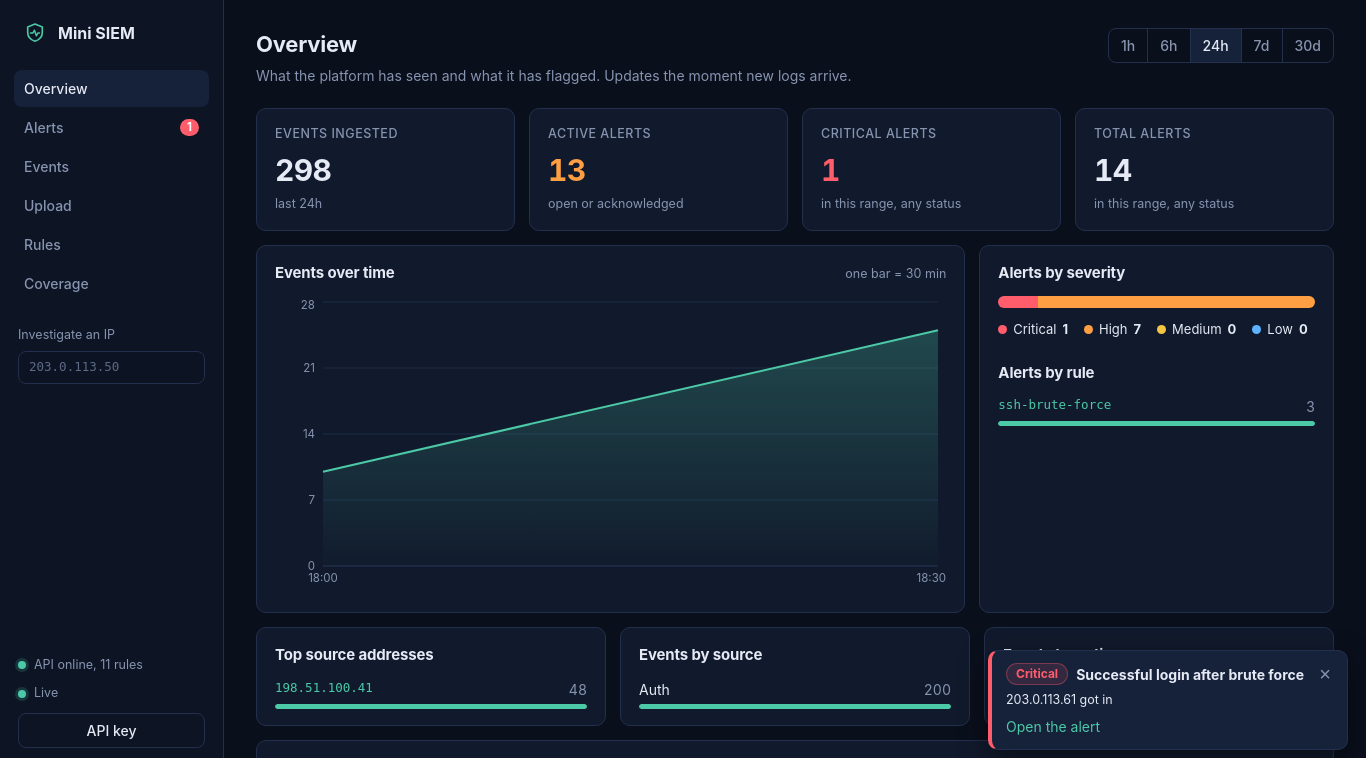
Test: Live feed › lets the analyst dismiss a toast
This screenshot has width=1366, height=758.
Expected: the text "Live" is shown, left=18, top=685, right=58, bottom=700
Click the button named "Dismiss Successful login after brute force" at (1325, 674), box left=1317, top=664, right=1333, bottom=684
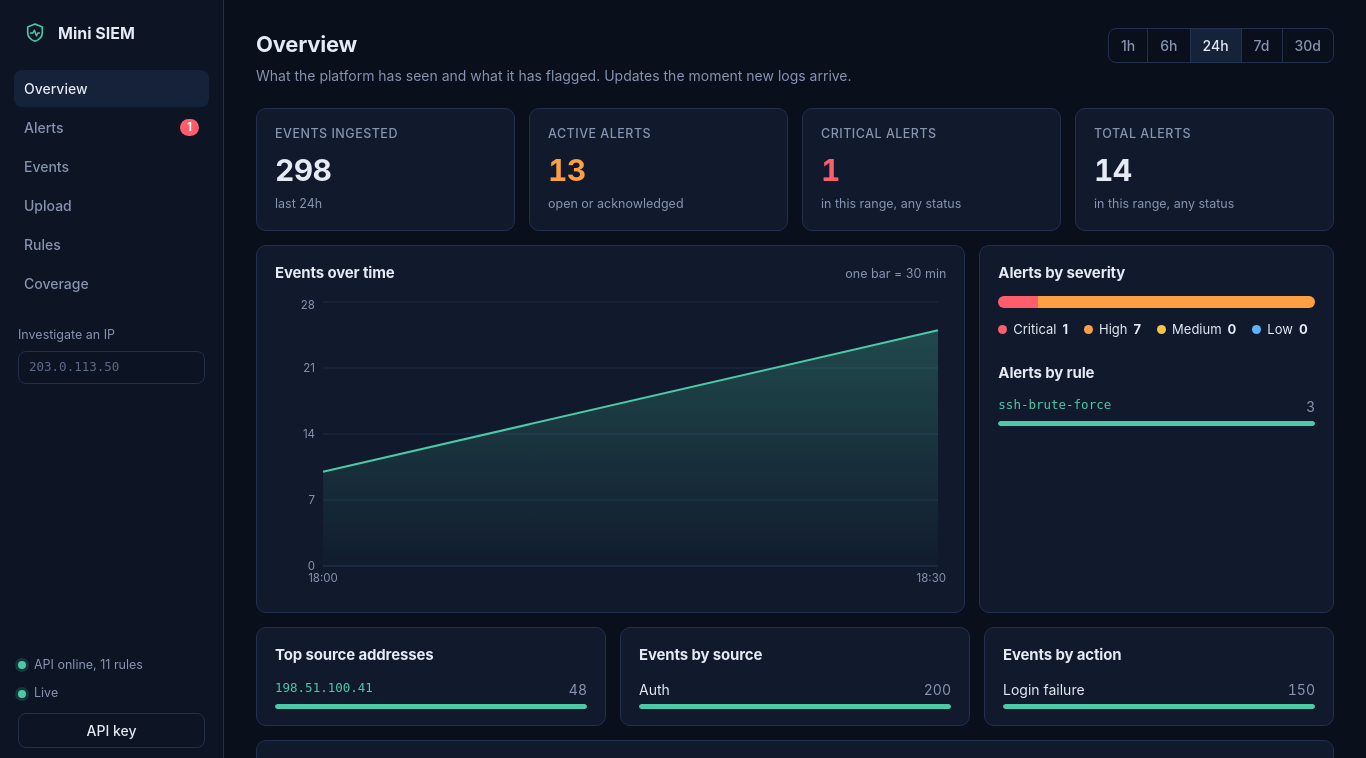
Expected: the text "203.0.113.61 got in" is gone
